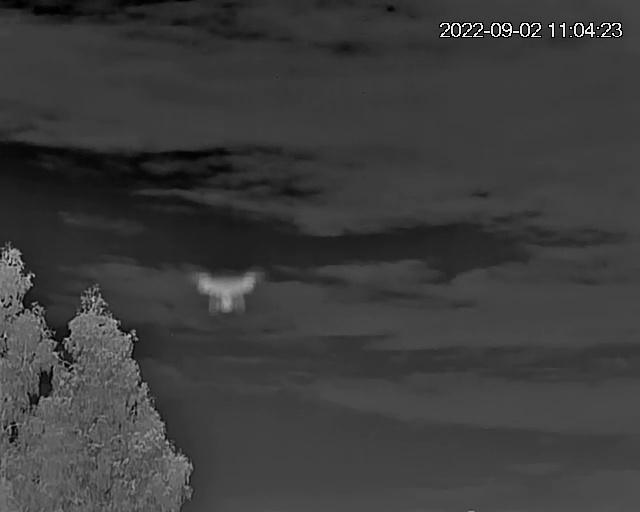DJI-Phantom: (192, 270, 265, 314)
